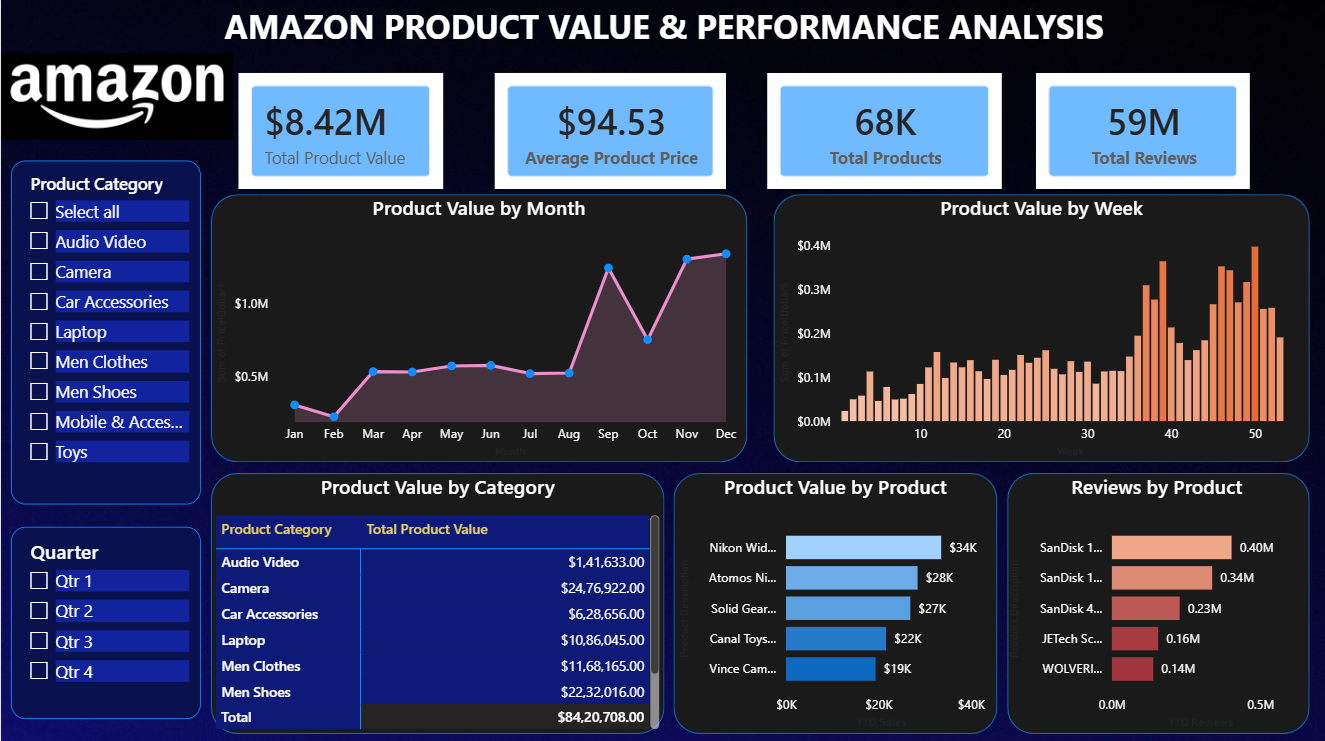

The page's visual inventory and layout, read from the dashboard file:
{"tool":"powerbi","page":{"name":"Page 1","canvas":[1280,720],"ordinal":0},"visuals":[{"type":"textbox","box":[0,0,1280,67.6],"z":0},{"type":"cardVisual","fields":{"Data":["Amazon_Data.Total Product Value"]},"box":[224.3,67.4,207.8,122.5],"z":1000},{"type":"cardVisual","fields":{"Data":["Amazon_Data.Average Product Price"]},"box":[472.1,67.4,234,122.5],"z":2000},{"type":"cardVisual","fields":{"Data":["Amazon_Data.Total Products"]},"box":[735,67.4,236.7,122.5],"z":3000},{"type":"cardVisual","fields":{"Data":["Amazon_Data.Total Reviews"]},"box":[993.7,67.4,216.1,122.5],"z":4000},{"type":"shape","title":"SALES ANALYSIS | AMAZON PRODUCTS","box":[202.3,189.9,517.5,258.8],"z":5000},{"type":"areaChart","title":"Product Value by Month","fields":{"Category":["Date Table.Month"],"Y":["Sum(Amazon_Data.Price(Dollar))"]},"box":[202.3,189.9,517.5,258.8],"z":6000},{"type":"shape","title":"SALES ANALYSIS | AMAZON PRODUCTS","box":[746,189.9,517.5,258.8],"z":7000},{"type":"columnChart","title":"Product Value by Week","fields":{"Category":["Date Table.Week"],"Y":["Sum(Amazon_Data.Price(Dollar))"]},"box":[746,189.9,517.5,258.8],"z":8000},{"type":"shape","title":"SALES ANALYSIS | AMAZON PRODUCTS","box":[202.3,458.3,437.7,251.9],"z":9000},{"type":"pivotTable","title":"Product Value by Category","fields":{"Rows":["Amazon_Data.Product Category"],"Values":["Amazon_Data.Total Product Value"]},"box":[202.3,458.3,437.7,251.9],"z":10000},{"type":"shape","title":"SALES ANALYSIS | AMAZON PRODUCTS","box":[649.6,458.3,312.4,251.9],"z":11000},{"type":"shape","title":"SALES ANALYSIS | AMAZON PRODUCTS","box":[971.7,458.3,291.8,251.9],"z":12000},{"type":"barChart","title":"Product Value by Product","fields":{"Category":["Amazon_Data.Product Description"],"Y":["Amazon_Data.YTD Sales"]},"box":[649.6,458.3,312.4,251.9],"z":13000},{"type":"barChart","title":"Reviews by Product","fields":{"Category":["Amazon_Data.Product Description"],"Y":["Amazon_Data.YTD Reviews"]},"box":[967.6,458.3,295.9,251.9],"z":14000},{"type":"image","box":[0,0,224.4,189.4],"z":15000},{"type":"slicer","fields":{"Values":["Amazon_Data.Product Category"]},"box":[9.6,156.9,183.1,331.7],"z":16000},{"type":"slicer","fields":{"Values":["Date Table.Quarter"]},"box":[9.6,510.6,183.1,185.8],"z":17000}]}

Visuals, with their boxes in screenshot pixels (x1, y1, x2, y2), scaled from the page's 1280x720 canvas onto the 1325x741 screenshot:
textbox: [0, 0, 1324, 70]
cardVisual - Amazon_Data.Total Product Value: [232, 69, 447, 195]
cardVisual - Amazon_Data.Average Product Price: [489, 69, 731, 195]
cardVisual - Amazon_Data.Total Products: [761, 69, 1006, 195]
cardVisual - Amazon_Data.Total Reviews: [1029, 69, 1252, 195]
"SALES ANALYSIS | AMAZON PRODUCTS" shape: [209, 195, 745, 462]
"Product Value by Month" areaChart: [209, 195, 745, 462]
"SALES ANALYSIS | AMAZON PRODUCTS" shape: [772, 195, 1308, 462]
"Product Value by Week" columnChart: [772, 195, 1308, 462]
"SALES ANALYSIS | AMAZON PRODUCTS" shape: [209, 472, 662, 731]
"Product Value by Category" pivotTable: [209, 472, 662, 731]
"SALES ANALYSIS | AMAZON PRODUCTS" shape: [672, 472, 996, 731]
"SALES ANALYSIS | AMAZON PRODUCTS" shape: [1006, 472, 1308, 731]
"Product Value by Product" barChart: [672, 472, 996, 731]
"Reviews by Product" barChart: [1002, 472, 1308, 731]
image: [0, 0, 232, 195]
slicer - Amazon_Data.Product Category: [10, 161, 199, 503]
slicer - Date Table.Quarter: [10, 525, 199, 717]
